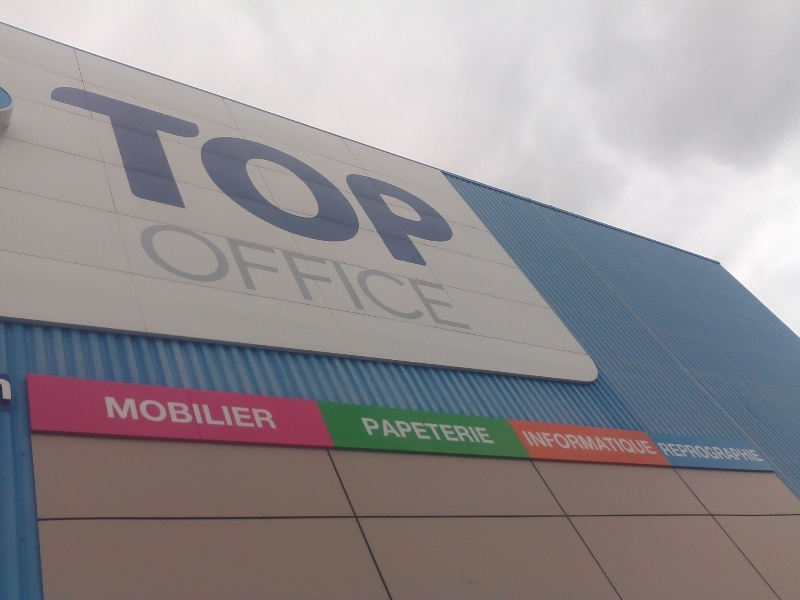text: (465, 76, 481, 281), (49, 76, 64, 281), (65, 76, 80, 281), (81, 76, 96, 281), (97, 76, 112, 281), (113, 76, 128, 281), (129, 76, 144, 281), (145, 76, 160, 281), (161, 76, 176, 281), (177, 76, 192, 281), (193, 76, 208, 281), (209, 76, 224, 281), (225, 76, 240, 281), (241, 76, 256, 281), (257, 76, 272, 281), (273, 76, 288, 281), (289, 76, 304, 281), (305, 76, 320, 281), (321, 76, 336, 281), (337, 76, 352, 281), (353, 76, 368, 281), (369, 76, 384, 281), (385, 76, 400, 281), (401, 76, 416, 281), (417, 76, 432, 281), (433, 76, 448, 281), (449, 76, 464, 281), (145, 217, 160, 333), (161, 217, 176, 333), (177, 217, 192, 333), (193, 217, 208, 333), (209, 217, 224, 333), (225, 217, 240, 333), (241, 217, 256, 333), (257, 217, 272, 333), (273, 217, 288, 333), (289, 217, 304, 333), (305, 217, 320, 333), (321, 217, 336, 333), (337, 217, 352, 333), (353, 217, 368, 333), (369, 217, 384, 333), (385, 217, 400, 333), (401, 217, 416, 333), (417, 217, 432, 333), (433, 217, 448, 333), (449, 217, 464, 333), (465, 217, 480, 333), (43, 76, 48, 281), (139, 217, 144, 333), (113, 395, 128, 430), (129, 395, 144, 430), (145, 395, 160, 430), (161, 395, 176, 430), (177, 395, 192, 430), (193, 395, 208, 430), (209, 395, 224, 430), (225, 395, 240, 430), (241, 395, 256, 430), (257, 395, 272, 430), (481, 417, 497, 445), (369, 417, 384, 445), (385, 417, 400, 445), (401, 417, 416, 445), (417, 417, 432, 445), (433, 417, 448, 445), (449, 417, 464, 445), (465, 417, 480, 445), (529, 431, 544, 456), (545, 431, 560, 456), (561, 431, 576, 456), (577, 431, 592, 456), (593, 431, 608, 456), (609, 431, 624, 456), (625, 431, 640, 456), (641, 431, 656, 456), (657, 442, 672, 463), (673, 442, 688, 463), (689, 442, 704, 463), (705, 442, 720, 463), (721, 442, 736, 463), (737, 442, 752, 463), (104, 395, 112, 430), (753, 442, 766, 463), (520, 431, 528, 456), (361, 417, 368, 445), (273, 395, 278, 430), (657, 431, 659, 456)
